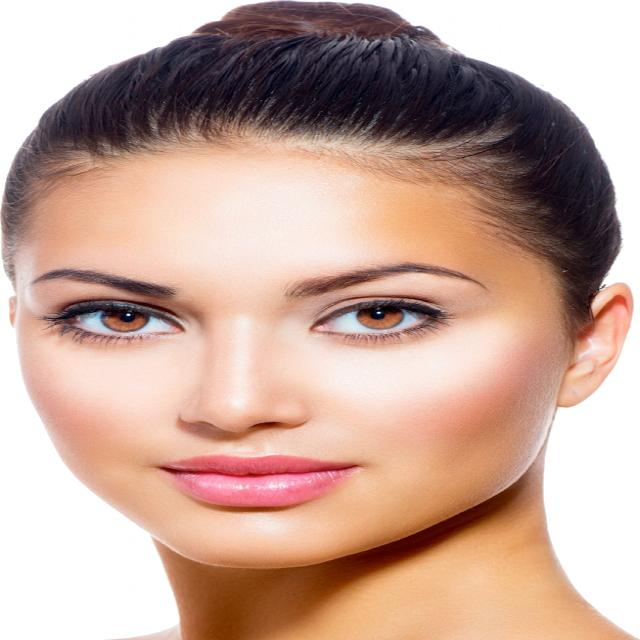earlobe: (559, 281, 634, 409)
